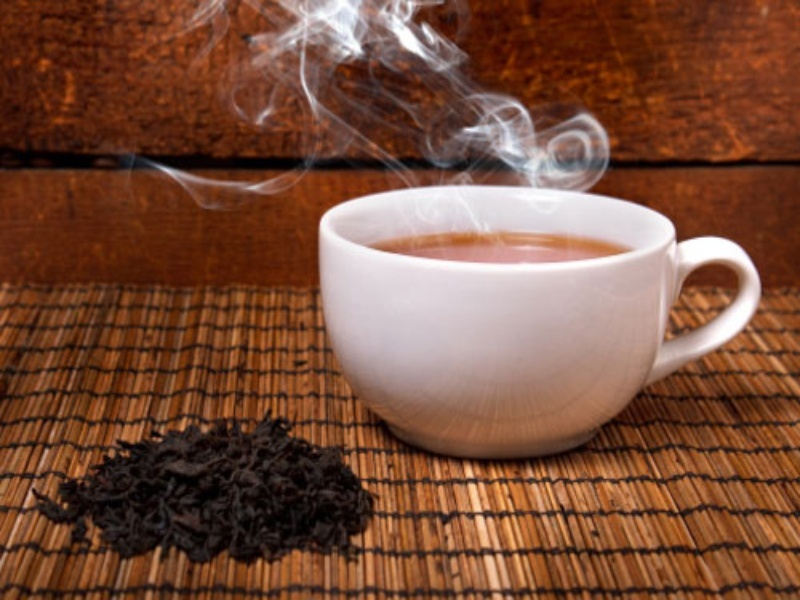smoke: (282, 1, 591, 206)
